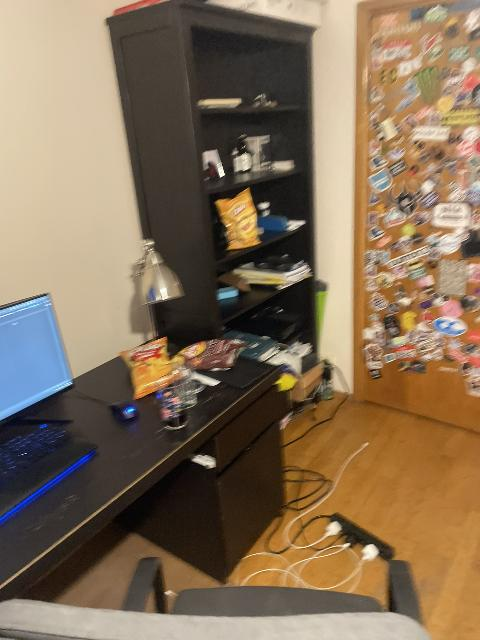Chio Cascaval 125g: (118, 337, 178, 399)
Chio Hula Hoops Cheese 70g: (213, 186, 262, 251)
Lays Beef Grilled Ribs 125g: (175, 338, 248, 371)
